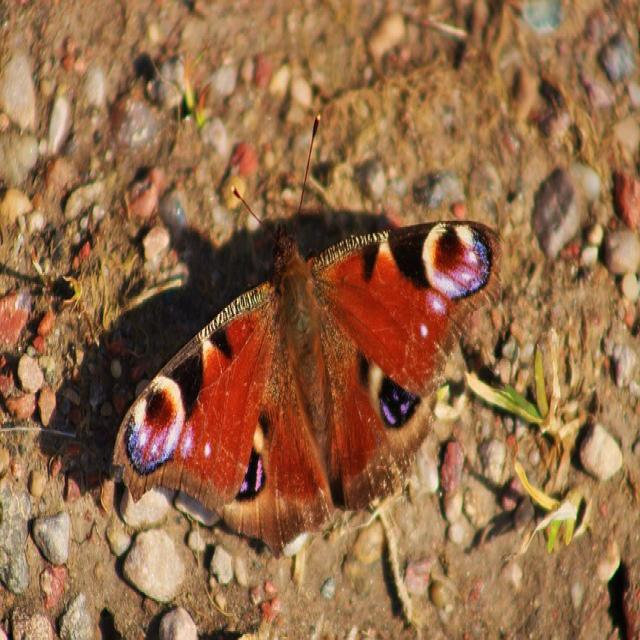butterfly: (115, 221, 473, 547)
